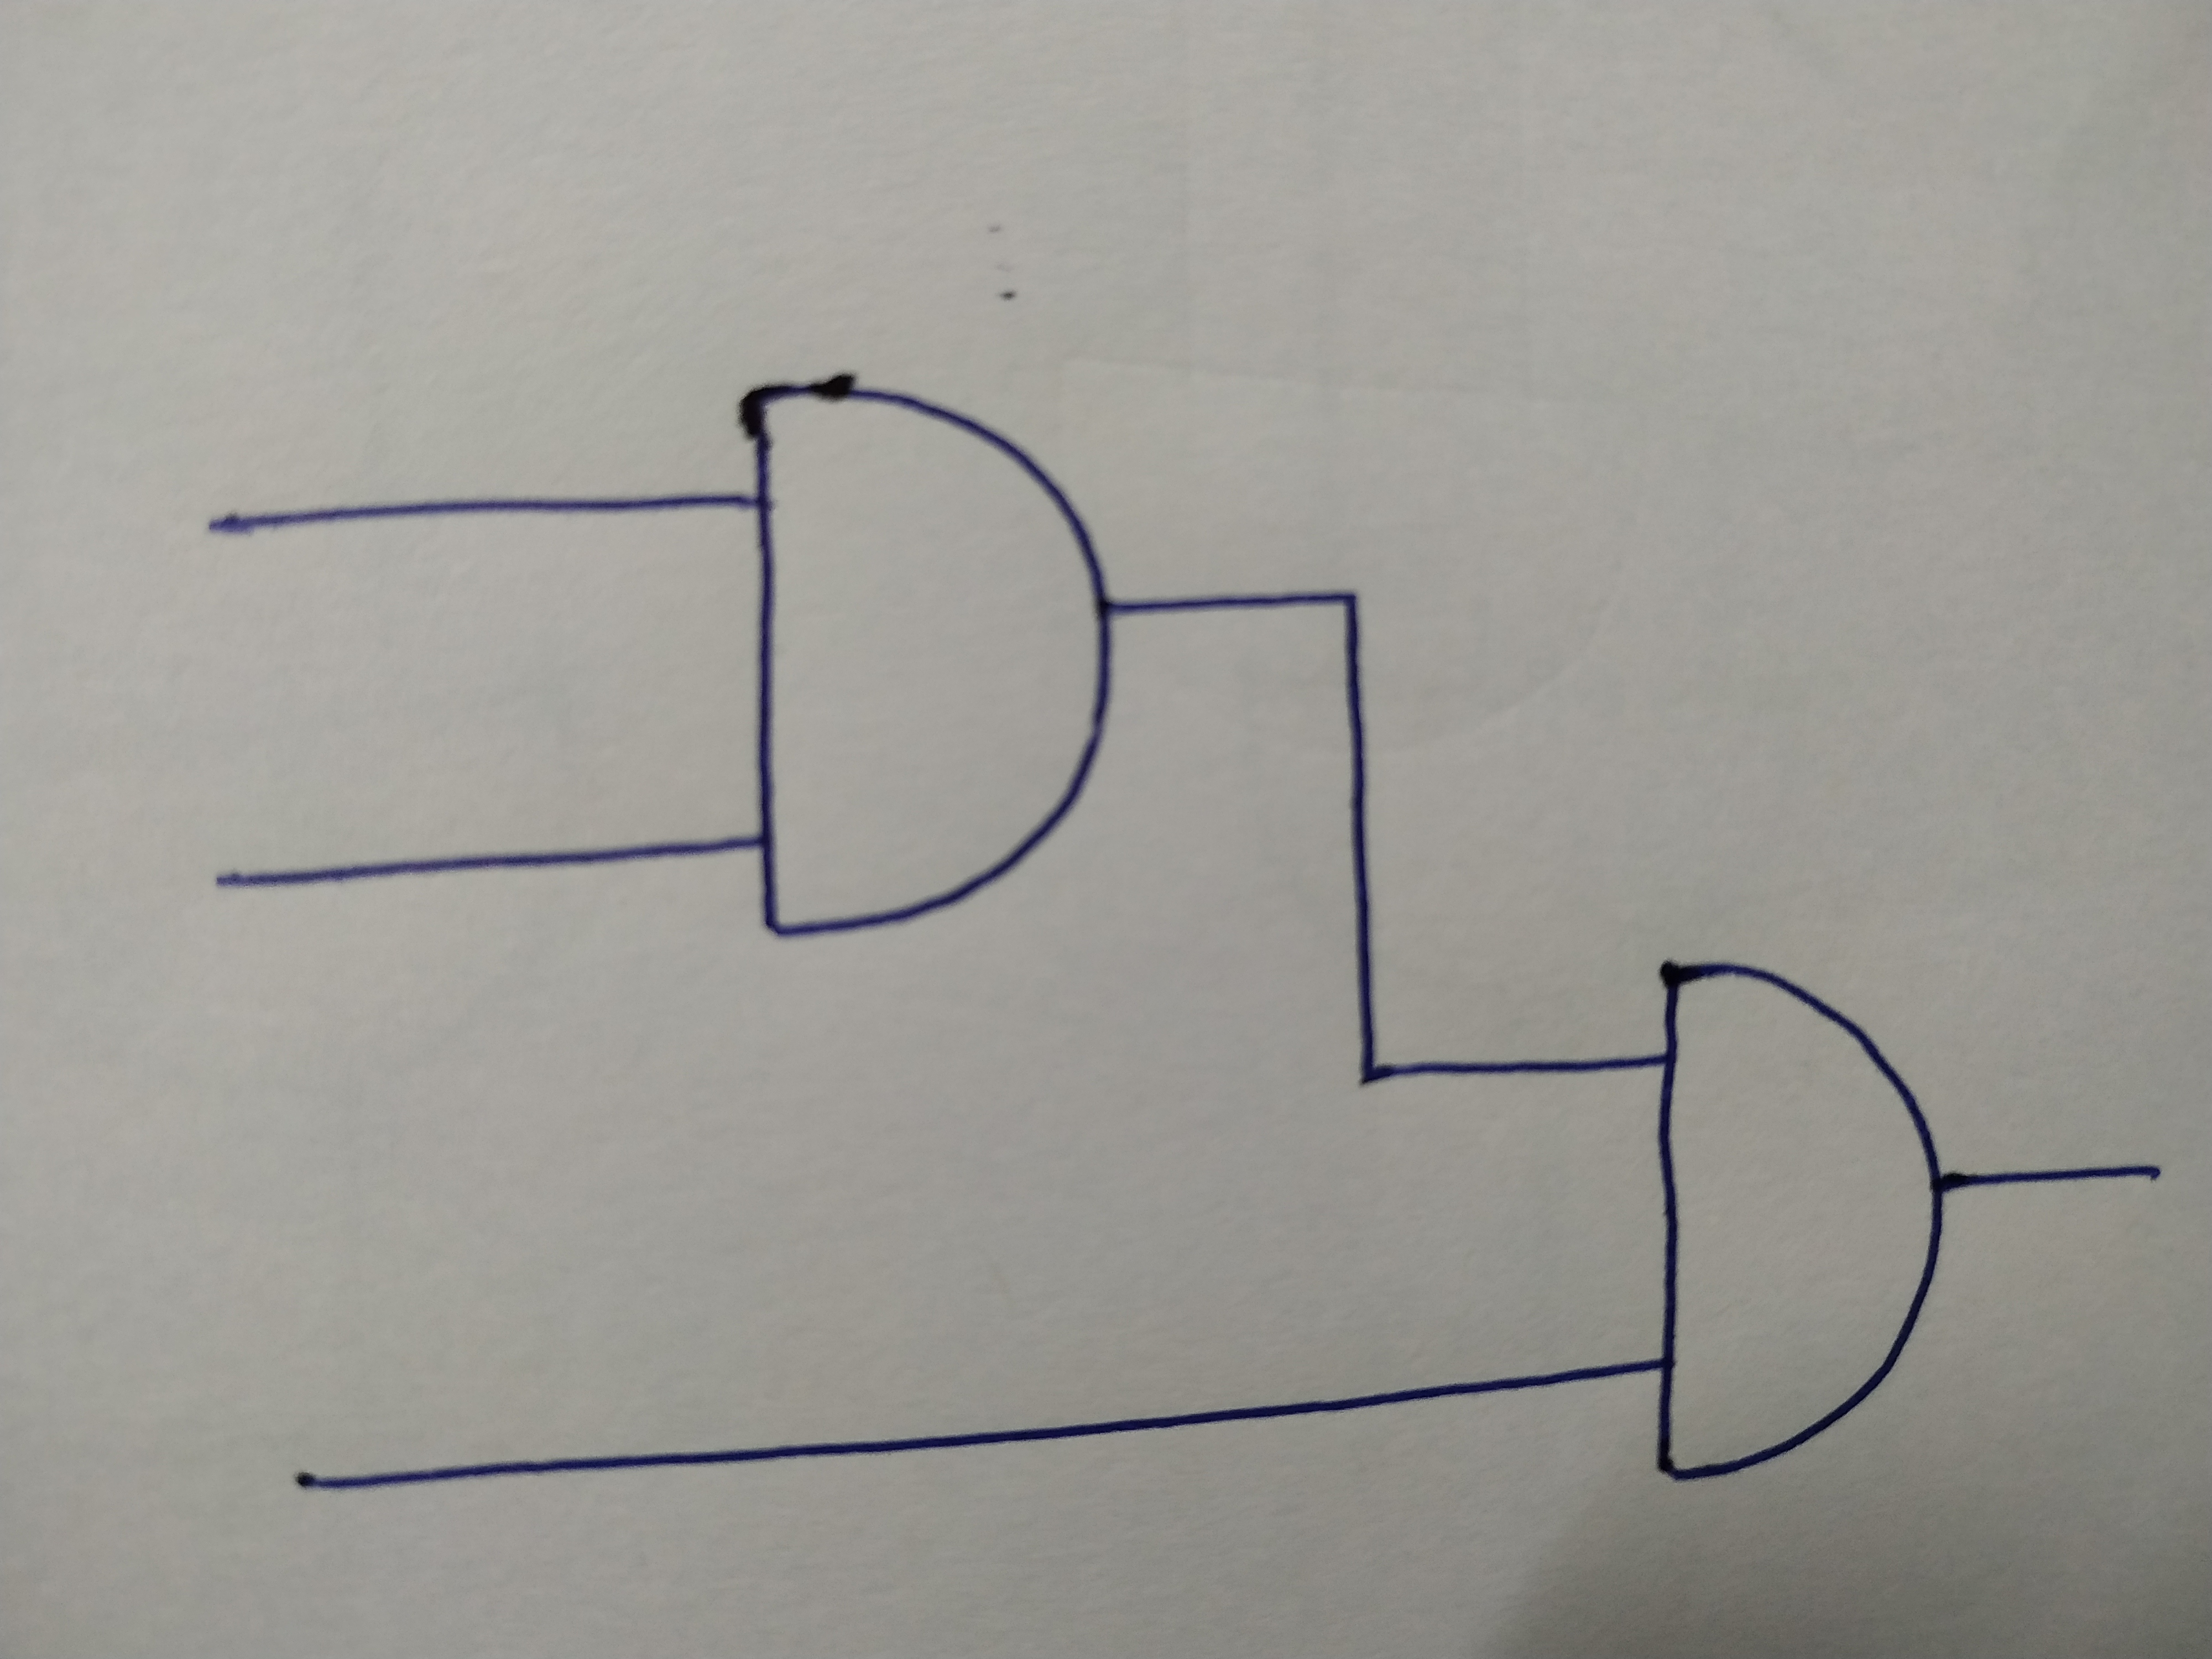and: (733, 371, 1113, 945), (1646, 958, 1946, 1486)
